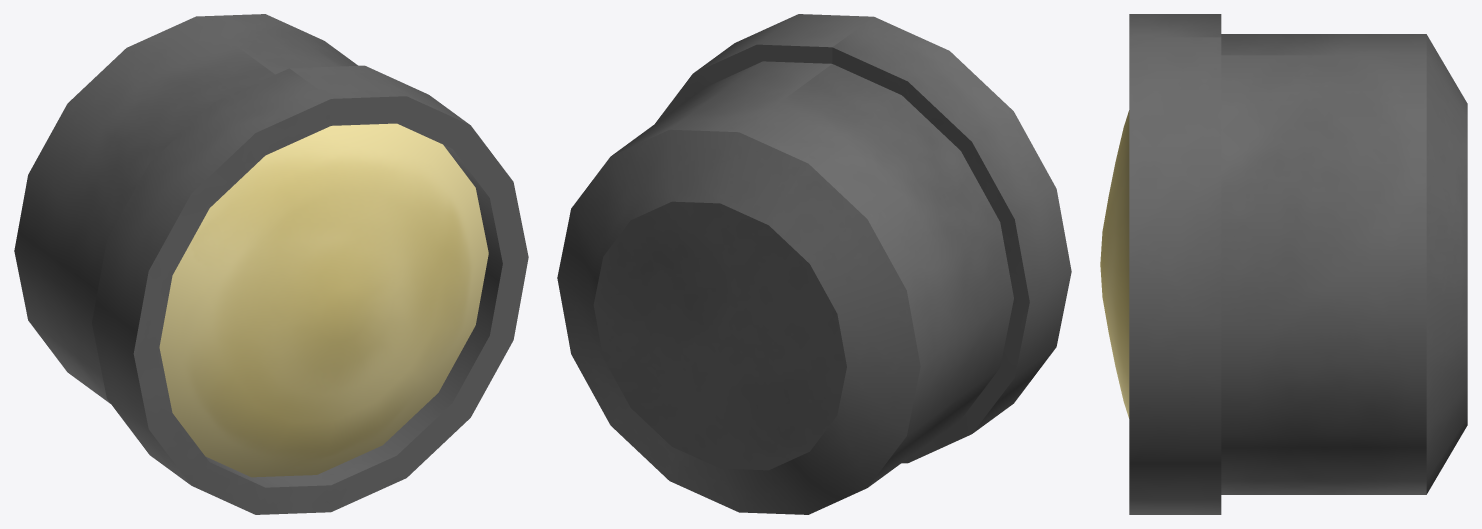
Rendered from Spotlight.fbx.
3 views of the same model, side by side, from view 1: azimuth 30°, elevation 25°; view 2: azimuth 150°, elevation 25°; view 3: azimuth 270°, elevation 25° (orthographic). The views are drawn at different scales.
Visible parts, largest first — view 1: Spotlight_Mesh; view 2: Spotlight_Mesh; view 3: Spotlight_Mesh.
Boxes of the visible parts, x1,y1,x2,y2 form: Spotlight_Mesh: [14, 14, 528, 514]; Spotlight_Mesh: [557, 14, 1071, 514]; Spotlight_Mesh: [1100, 14, 1467, 514].
Bounding box in the file's own units: 200 × 200 × 147.
1 material, 1 textured.
